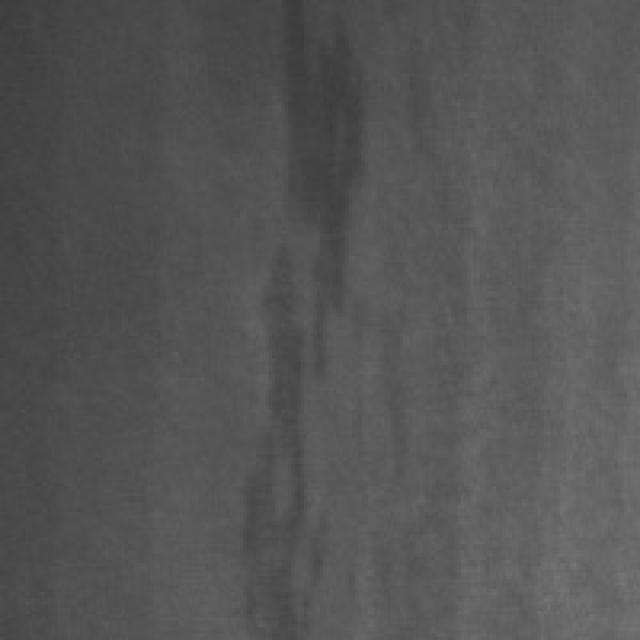inclusion: (243, 0, 374, 624)
